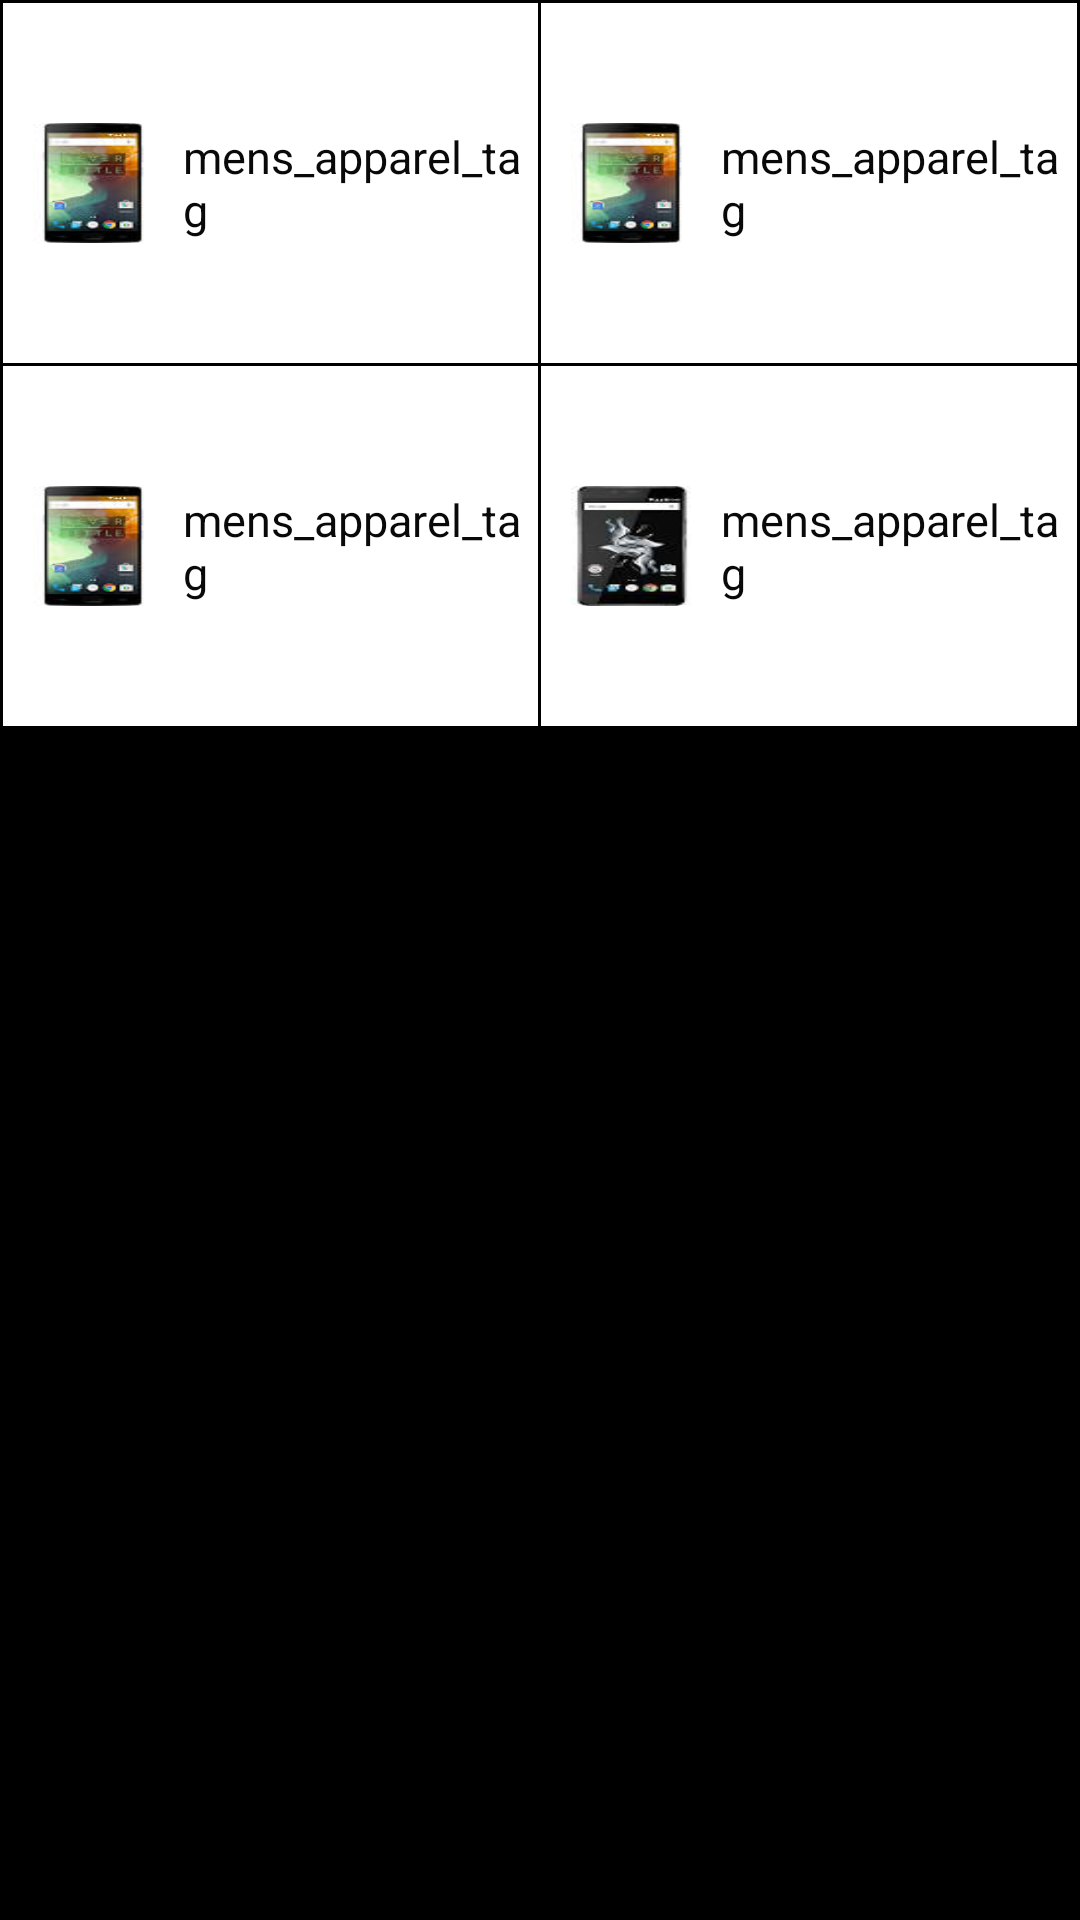

Icons on this 1080px x 1920px Android screen, each with its box as {"x1": x1, "y1": y1, "x2": x2, "y2": y2}:
oneplus: {"x1": 43, "y1": 123, "x2": 143, "y2": 243}, {"x1": 581, "y1": 123, "x2": 681, "y2": 243}, {"x1": 43, "y1": 486, "x2": 143, "y2": 606}, {"x1": 576, "y1": 486, "x2": 687, "y2": 606}
